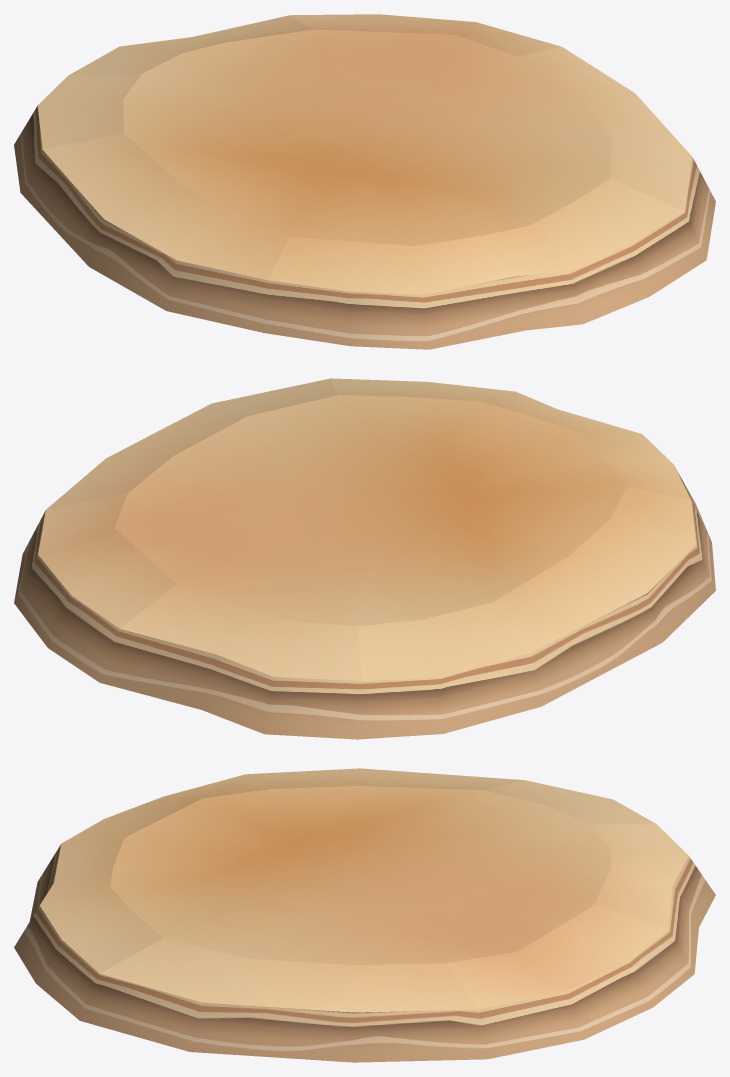
Rendered from Base_Floor.FBX.
The picture shows the model from 3 angles, top to bottom: view 1: azimuth 30°, elevation 25°; view 2: azimuth 150°, elevation 25°; view 3: azimuth 270°, elevation 25°; orthographic projection. The views are drawn at different scales.
Visible parts, largest first — view 1: Border, Patch_00, Patch_10, Patch_05, Patch_04, Patch_09, Patch_07, Patch_01, Patch_11, Patch_06, Patch_03, Patch_02 (+4 smaller); view 2: Border, Patch_00, Patch_10, Patch_08, Patch_05, Patch_09, Patch_12, Patch_06, Patch_11, Patch_14, Patch_03, Patch_07 (+4 smaller); view 3: Border, Patch_00, Patch_07, Patch_05, Patch_12, Patch_09, Patch_11, Patch_06, Patch_01, Patch_02, Patch_03, Patch_08 (+4 smaller).
Part boxes in pixels (bbox=[...]): Border: bbox=[14, 105, 715, 349]; Patch_00: bbox=[246, 82, 490, 190]; Patch_10: bbox=[43, 133, 289, 280]; Patch_05: bbox=[444, 56, 612, 178]; Patch_04: bbox=[268, 235, 512, 294]; Patch_09: bbox=[124, 133, 329, 236]; Patch_07: bbox=[517, 47, 692, 211]; Patch_01: bbox=[483, 178, 684, 276]; Patch_11: bbox=[312, 29, 516, 95]; Patch_06: bbox=[142, 29, 340, 104]; Patch_03: bbox=[290, 185, 482, 246]; Patch_02: bbox=[427, 157, 609, 235]; Border: bbox=[14, 466, 715, 739]; Patch_00: bbox=[247, 448, 502, 564]; Patch_10: bbox=[493, 486, 696, 652]; Patch_08: bbox=[120, 584, 361, 681]; Patch_05: bbox=[128, 395, 358, 497]; Patch_09: bbox=[436, 486, 626, 601]; Patch_12: bbox=[38, 493, 176, 628]; Patch_06: bbox=[177, 543, 368, 625]; Patch_11: bbox=[114, 493, 277, 584]; Patch_14: bbox=[358, 602, 530, 681]; Patch_03: bbox=[452, 414, 626, 493]; Patch_07: bbox=[46, 378, 337, 509]; Border: bbox=[14, 844, 715, 1062]; Patch_00: bbox=[232, 827, 482, 916]; Patch_07: bbox=[100, 937, 477, 1012]; Patch_05: bbox=[164, 903, 444, 965]; Patch_12: bbox=[446, 905, 668, 1009]; Patch_09: bbox=[203, 786, 481, 833]; Patch_11: bbox=[400, 887, 594, 963]; Patch_06: bbox=[472, 824, 610, 904]; Patch_01: bbox=[40, 866, 163, 973]; Patch_02: bbox=[110, 866, 258, 937]; Patch_03: bbox=[113, 798, 277, 867]; Patch_08: bbox=[590, 824, 688, 929].
Size of the model in its own units: 24.66 by 2.79 by 28.2.
